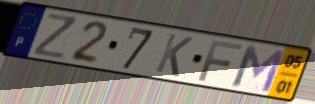2: (69, 20, 109, 65)
7: (119, 25, 157, 71)
F: (196, 39, 246, 84)
K: (153, 31, 196, 79)
M: (229, 43, 287, 95)
Z: (31, 11, 80, 61)
